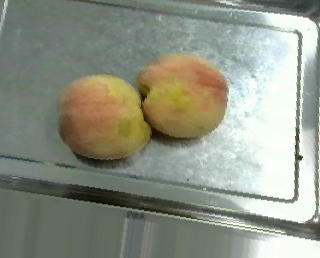Peach: (57, 72, 150, 161), (136, 52, 227, 138)
